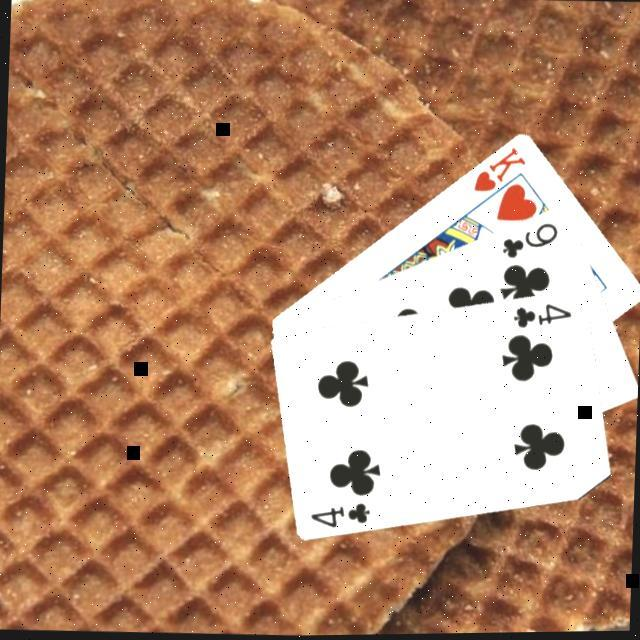4C: (305, 496, 373, 532), (509, 298, 575, 333)
9C: (497, 217, 560, 263)
KH: (469, 141, 529, 196)
